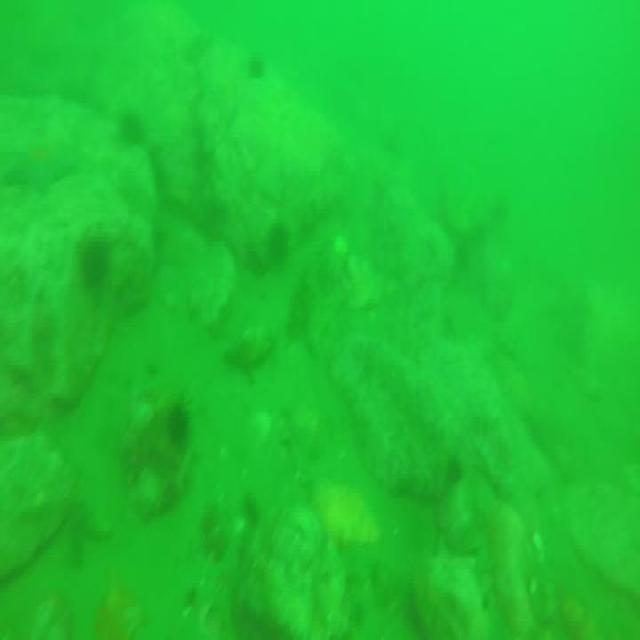echinus: (84, 235, 110, 294), (268, 221, 290, 272), (119, 106, 147, 145), (165, 404, 193, 442)
